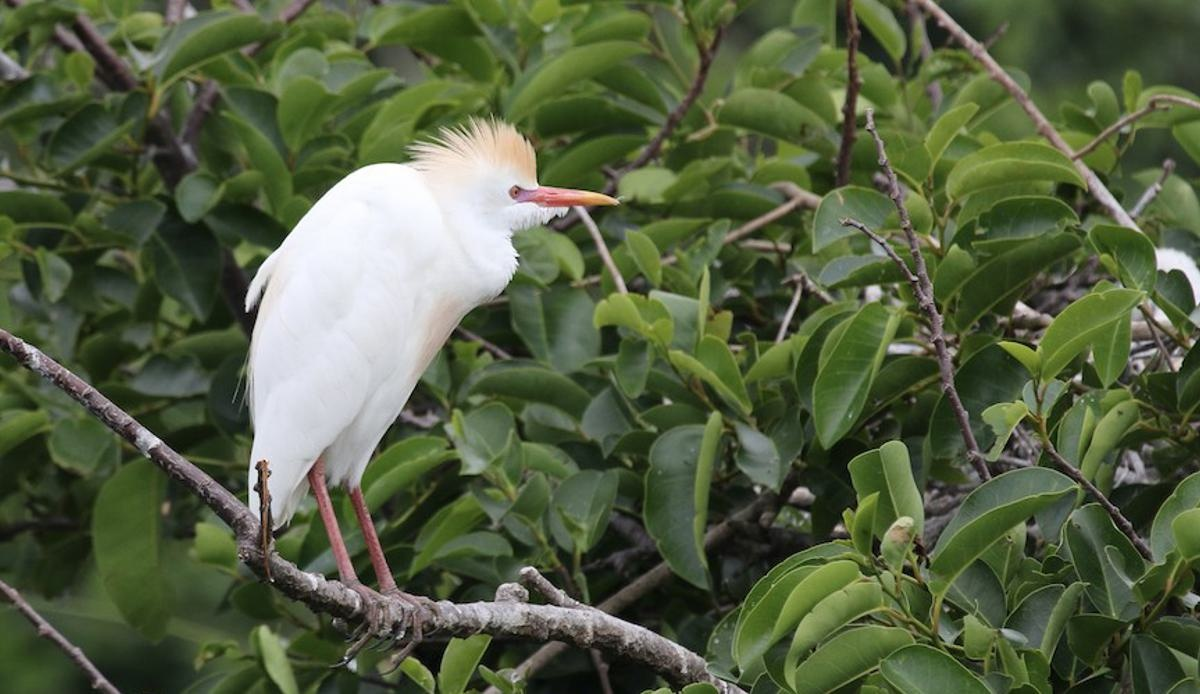egret: (188, 120, 623, 605)
